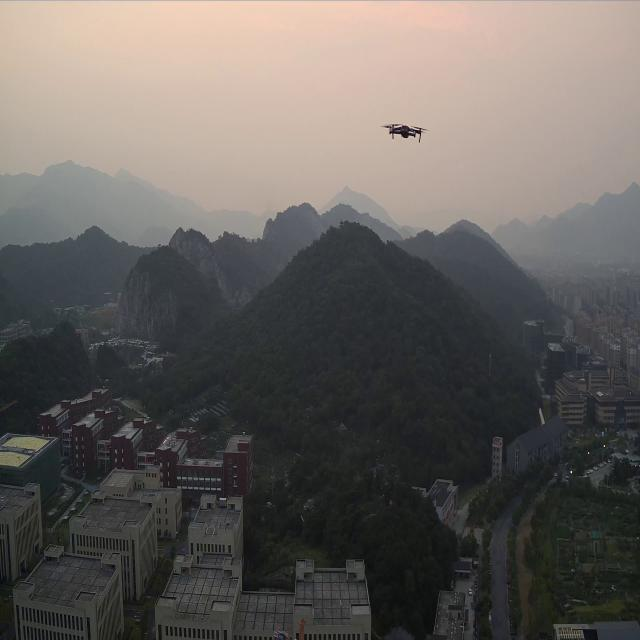UAV: (385, 122, 425, 142)
